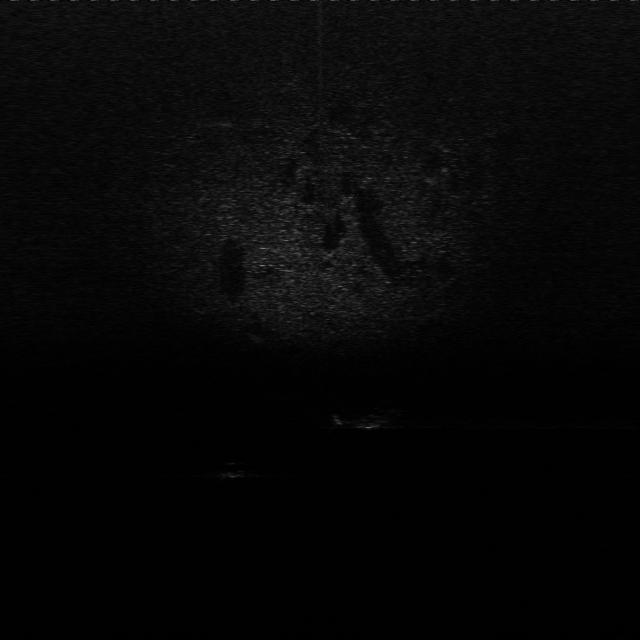ball: (217, 458, 251, 480)
human body: (328, 406, 409, 434)
